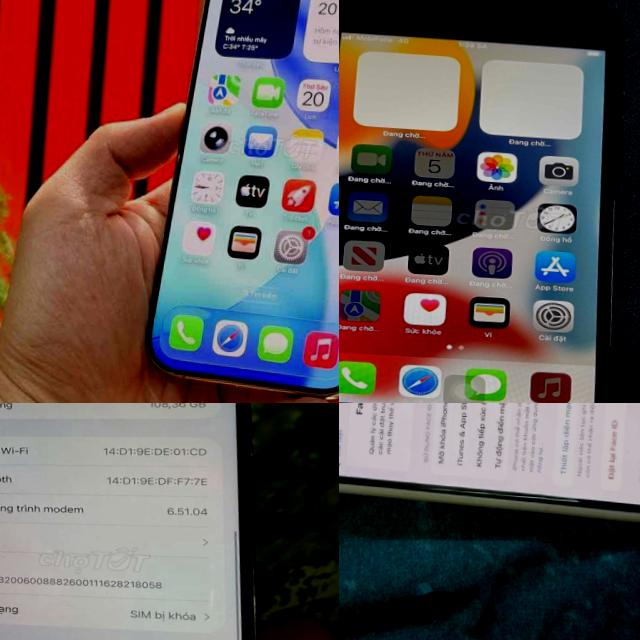gen_12_13: (0, 403, 300, 640)
gen_16: (135, 0, 339, 403)
gen_7_8: (339, 0, 640, 403)
gen_x_xs: (339, 403, 640, 530)
